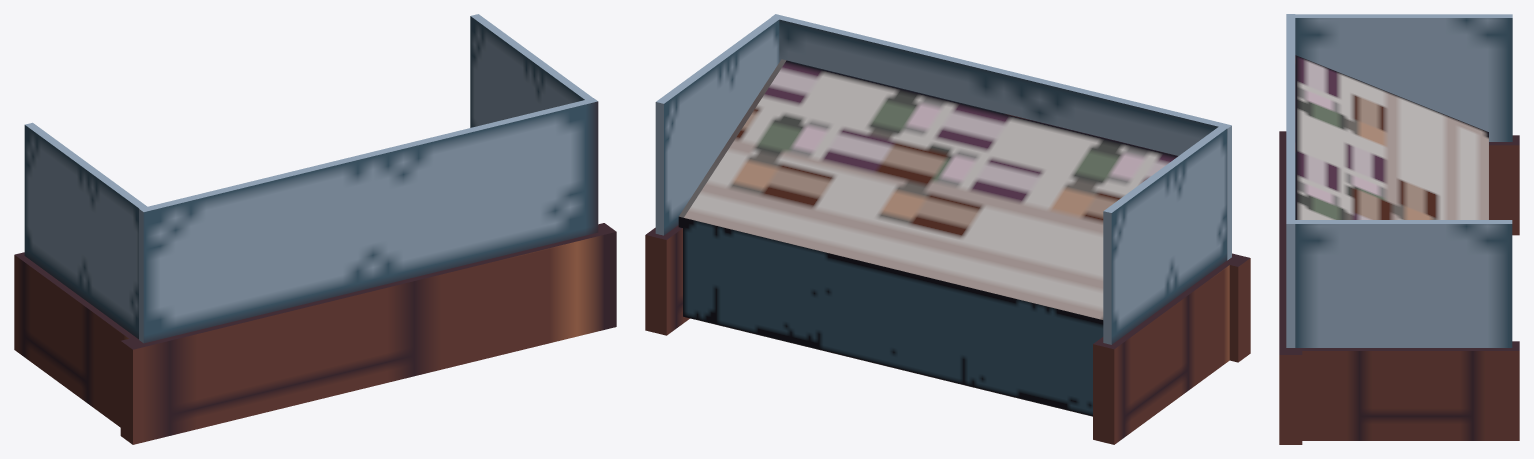
File: Estante.fbx
The picture shows the model from 3 angles, left to right: view 1: azimuth 30°, elevation 25°; view 2: azimuth 150°, elevation 25°; view 3: azimuth 270°, elevation 25°; orthographic projection. The views are drawn at different scales.
Parts seen in each view (by area): view 1: Estante; view 2: Estante; view 3: Estante.
Part boxes in pixels (x1=…): Estante: x1=14, y1=14, x2=616, y2=444; Estante: x1=645, y1=14, x2=1250, y2=444; Estante: x1=1279, y1=14, x2=1519, y2=444.
Bounding box in the file's own units: 308 × 138 × 140.
